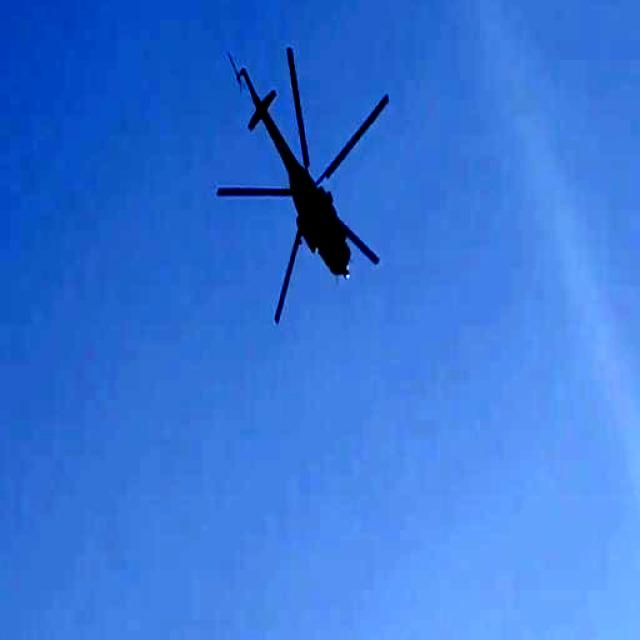drone: (215, 42, 389, 326)
